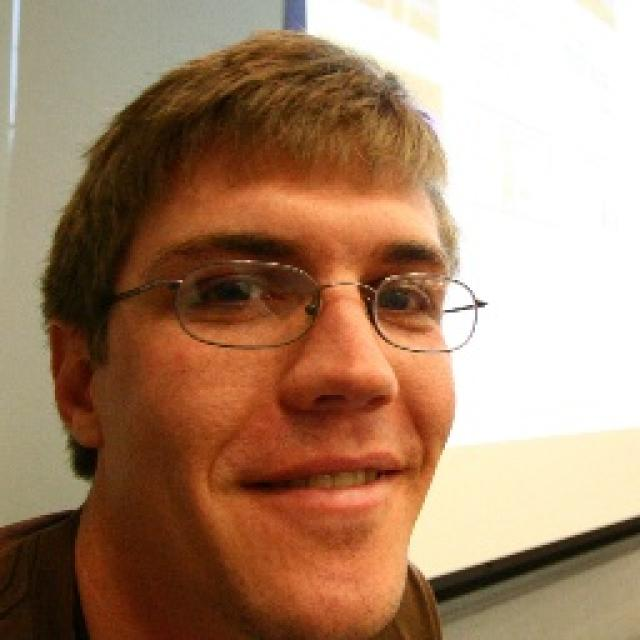earlobe: (68, 406, 105, 450)
eye: (187, 275, 275, 309), (367, 279, 429, 316)
nose: (288, 383, 422, 449)
wholeear: (46, 319, 106, 450)
